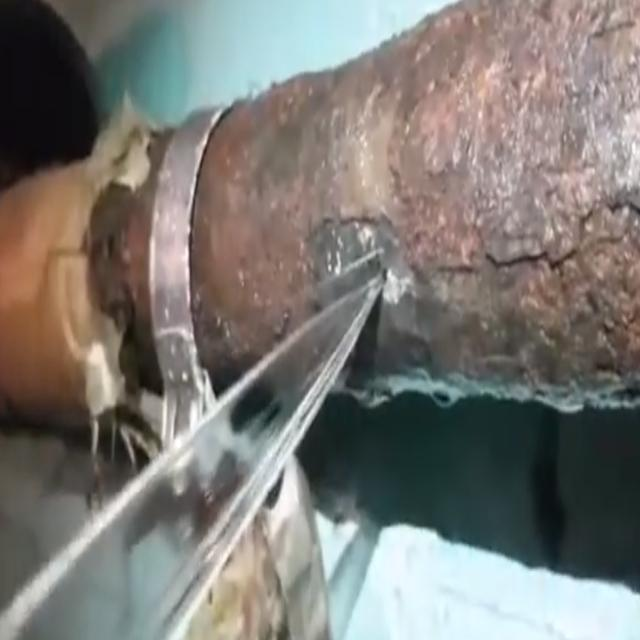leak: (0, 247, 388, 640)
